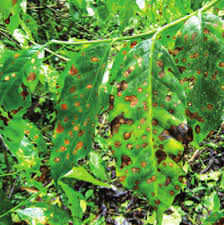ojo de gallo: (126, 45, 192, 208)
